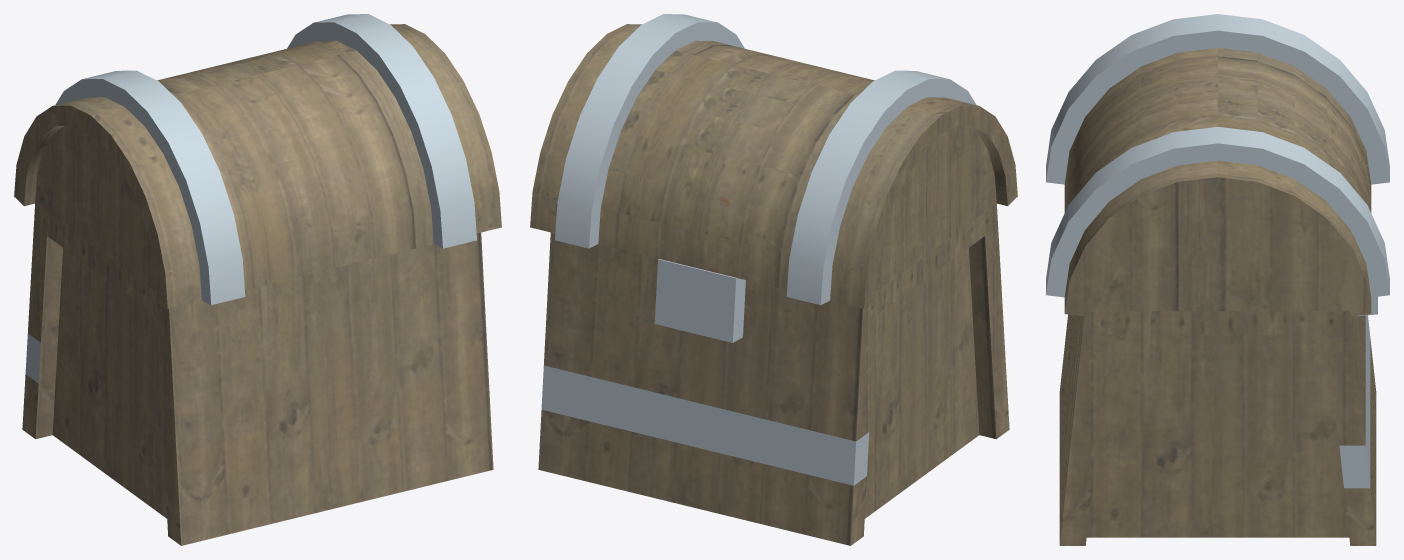
File: chest.glb
The picture shows the model from 3 angles, left to right: view 1: azimuth 30°, elevation 25°; view 2: azimuth 150°, elevation 25°; view 3: azimuth 270°, elevation 25°; orthographic projection.
Parts seen in each view (by area): view 1: chest, lid; view 2: chest, lid; view 3: lid, chest.
Part boxes in pixels (bbox=[...]): chest: bbox=[22, 204, 493, 545]; lid: bbox=[14, 14, 501, 308]; chest: bbox=[538, 204, 1009, 545]; lid: bbox=[530, 14, 1017, 308]; lid: bbox=[1046, 14, 1389, 316]; chest: bbox=[1059, 296, 1377, 545].
Size of the model in its own units: 0.4896 by 0.5492 by 0.4375.
Materials: 2 (1 with a texture image).
